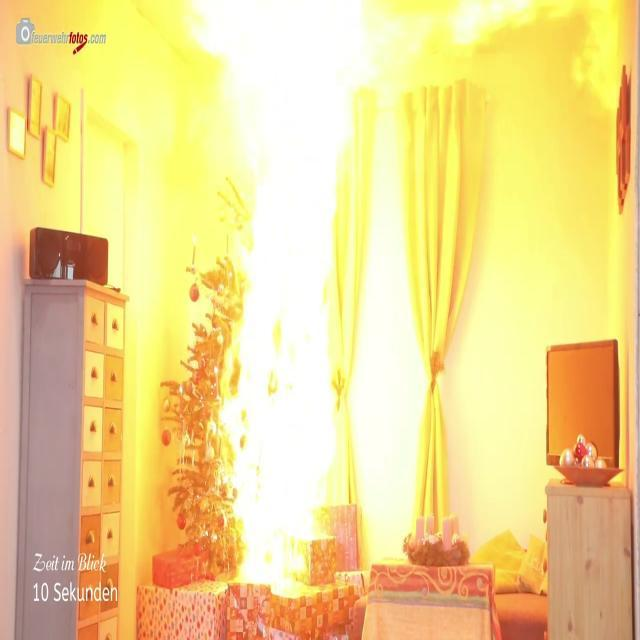Fire: (213, 1, 358, 596)
